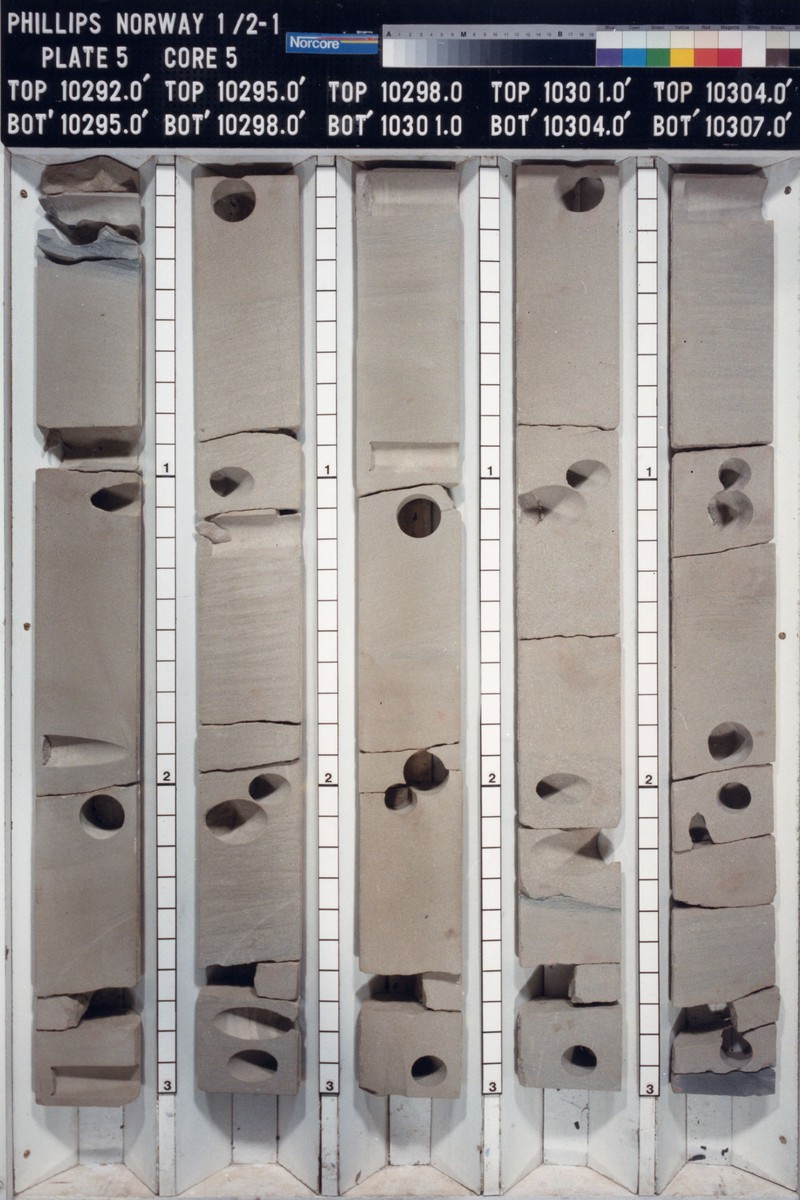core: (352, 166, 470, 1103), (30, 166, 146, 1106), (512, 164, 626, 1092), (191, 172, 304, 1095), (666, 172, 781, 1078)
